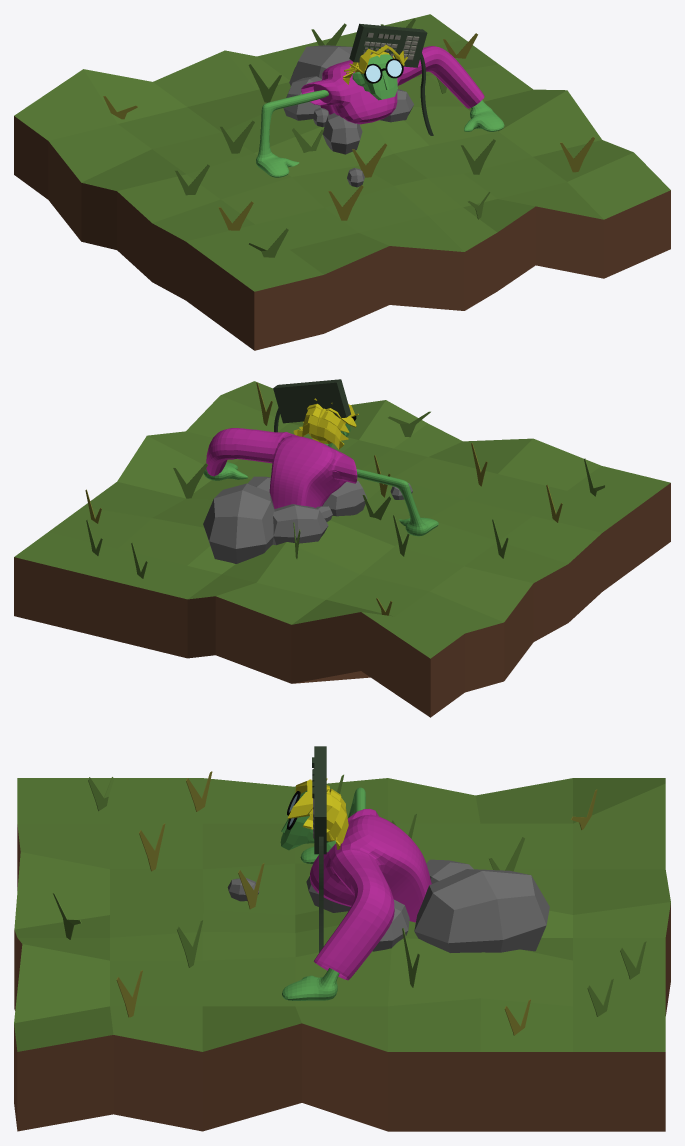
The model's file is zombo.glb.
3 views of the same model, one above another, from view 1: azimuth 30°, elevation 25°; view 2: azimuth 150°, elevation 25°; view 3: azimuth 270°, elevation 25° (orthographic). The views are drawn at different scales.
Parts seen in each view (by area): view 1: Plano.001, Cubo.002, Cubo.012, Cubo.003, Cubo.006, Cubo.008, Cubo, Cubo.005, Cubo.007, Cilindro, Plano, Cubo.009; view 2: Plano.001, Cubo.002, Cubo.006, Cubo.012, Cubo.007, Plano, Cubo.003, Cubo.008; view 3: Plano.001, Cubo.002, Cubo.006, Cubo.012, Plano, Cubo.005, Cubo, Cubo.009, Cubo.007.
Boxes of the visible parts, left/top/right/bottom form: Plano.001: left=14, top=14, right=670, bottom=350; Cubo.002: left=301, top=46, right=484, bottom=124; Cubo.012: left=349, top=23, right=433, bottom=135; Cubo.003: left=256, top=90, right=328, bottom=177; Cubo.006: left=289, top=45, right=352, bottom=85; Cubo.008: left=322, top=113, right=362, bottom=154; Cubo: left=354, top=51, right=397, bottom=100; Cubo.005: left=464, top=100, right=504, bottom=131; Cubo.007: left=283, top=76, right=321, bottom=120; Cilindro: left=364, top=58, right=403, bottom=83; Plano: left=343, top=44, right=407, bottom=84; Cubo.009: left=380, top=89, right=413, bottom=122; Plano.001: left=14, top=381, right=670, bottom=717; Cubo.002: left=206, top=428, right=357, bottom=508; Cubo.006: left=203, top=483, right=274, bottom=563; Cubo.012: left=273, top=379, right=350, bottom=432; Cubo.007: left=272, top=504, right=328, bottom=545; Plano: left=293, top=398, right=358, bottom=449; Cubo.003: left=356, top=469, right=438, bottom=536; Cubo.008: left=322, top=481, right=367, bottom=516; Plano.001: left=14, top=778, right=670, bottom=1131; Cubo.002: left=310, top=808, right=431, bottom=980; Cubo.006: left=414, top=869, right=549, bottom=952; Cubo.012: left=312, top=746, right=326, bottom=952; Plano: left=287, top=778, right=348, bottom=849; Cubo.005: left=282, top=968, right=339, bottom=1000; Cubo: left=280, top=790, right=345, bottom=852; Cubo.009: left=372, top=899, right=409, bottom=951; Cubo.007: left=426, top=859, right=473, bottom=883.
Size of the model in its own units: 18.46 by 8.54 by 18.48.
